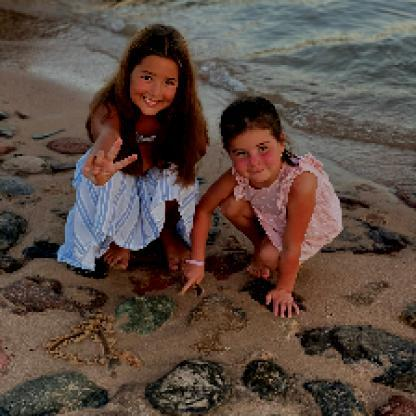child: (57, 21, 208, 274), (181, 98, 345, 319)
